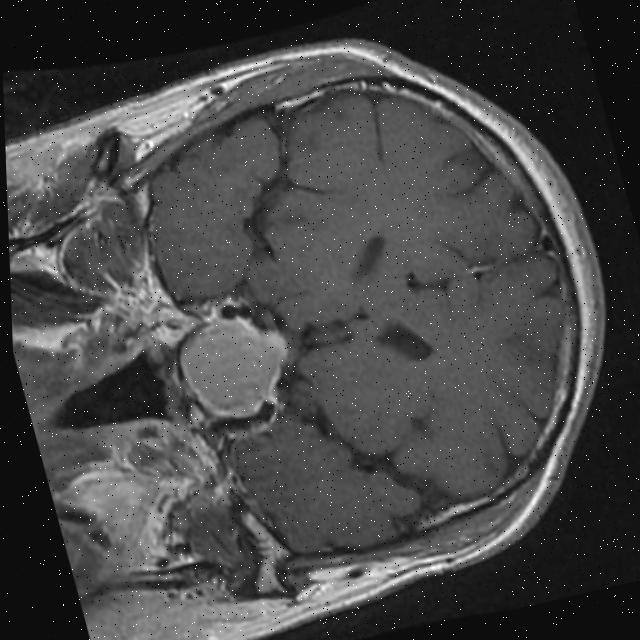Pituitary: (167, 302, 305, 430)
